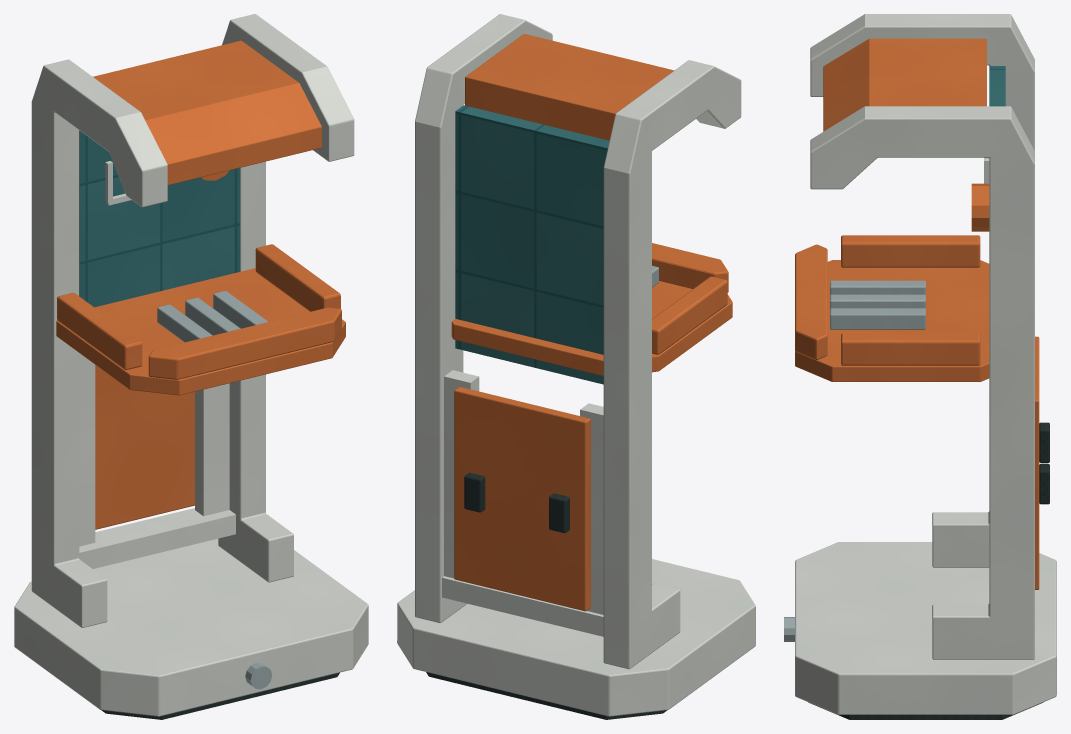
The model's file is AST-AQU-009.glb.
3 views of the same model, side by side, from view 1: azimuth 30°, elevation 25°; view 2: azimuth 150°, elevation 25°; view 3: azimuth 270°, elevation 25° (orthographic).
Parts seen in each view (by area): view 1: AST-AQU-009__body__aquatic_pearl_float, AST-AQU-009__body__aquatic_orange_float, AST-AQU-009__body__aquatic_edge_tile, AST-AQU-009__plate__aquatic_orange_float, AST-AQU-009__body__aquatic_satin_alloy, AST-AQU-009__body__aquatic_dark_grip; view 2: AST-AQU-009__body__aquatic_pearl_float, AST-AQU-009__body__aquatic_edge_tile, AST-AQU-009__plate__aquatic_orange_float, AST-AQU-009__body__aquatic_orange_float, AST-AQU-009__plate__aquatic_dark_grip, AST-AQU-009__body__aquatic_dark_grip; view 3: AST-AQU-009__body__aquatic_pearl_float, AST-AQU-009__body__aquatic_orange_float, AST-AQU-009__body__aquatic_satin_alloy, AST-AQU-009__plate__aquatic_orange_float, AST-AQU-009__plate__aquatic_dark_grip, AST-AQU-009__body__aquatic_dark_grip, AST-AQU-009__body__aquatic_edge_tile.
Part boxes in pixels (<box>): AST-AQU-009__body__aquatic_pearl_float: <box>14,14,368,716</box>; AST-AQU-009__body__aquatic_orange_float: <box>56,40,345,395</box>; AST-AQU-009__body__aquatic_edge_tile: <box>79,130,240,307</box>; AST-AQU-009__plate__aquatic_orange_float: <box>95,365,194,529</box>; AST-AQU-009__body__aquatic_satin_alloy: <box>157,291,272,689</box>; AST-AQU-009__body__aquatic_dark_grip: <box>102,672,339,719</box>; AST-AQU-009__body__aquatic_pearl_float: <box>397,14,755,716</box>; AST-AQU-009__body__aquatic_edge_tile: <box>455,105,609,384</box>; AST-AQU-009__plate__aquatic_orange_float: <box>454,387,590,611</box>; AST-AQU-009__body__aquatic_orange_float: <box>451,34,732,375</box>; AST-AQU-009__plate__aquatic_dark_grip: <box>464,473,569,533</box>; AST-AQU-009__body__aquatic_dark_grip: <box>426,672,667,719</box>; AST-AQU-009__body__aquatic_pearl_float: <box>795,14,1056,714</box>; AST-AQU-009__body__aquatic_orange_float: <box>795,38,989,381</box>; AST-AQU-009__body__aquatic_satin_alloy: <box>784,280,925,641</box>; AST-AQU-009__plate__aquatic_orange_float: <box>1035,336,1039,589</box>; AST-AQU-009__plate__aquatic_dark_grip: <box>1039,422,1049,504</box>; AST-AQU-009__body__aquatic_dark_grip: <box>808,702,1043,719</box>; AST-AQU-009__body__aquatic_edge_tile: <box>989,66,1005,106</box>.
Size of the model in its own units: 0.72 by 1.5 by 0.625.
5 materials, 5 textured.
